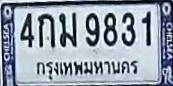1: (141, 11, 152, 46)
3: (121, 11, 136, 46)
4: (19, 12, 34, 49)
8: (103, 12, 118, 46)
9: (85, 12, 100, 46)
A01: (37, 13, 56, 48)
A33: (58, 11, 77, 47)
BKK: (34, 55, 138, 80)
